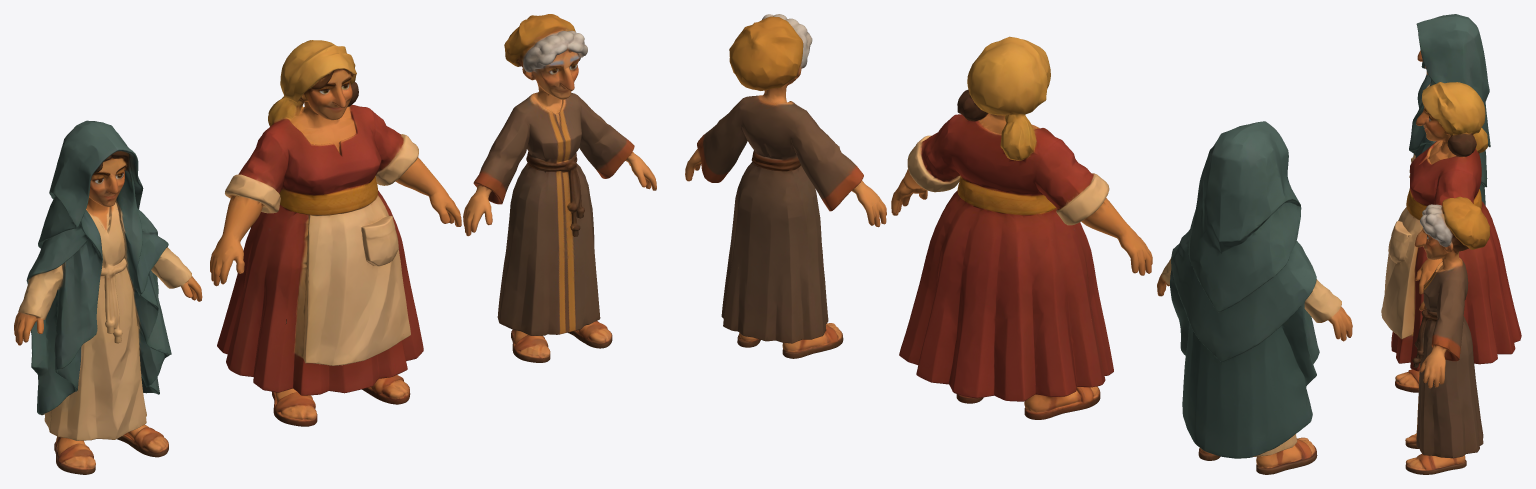
The model's file is mulheres_tripo.glb.
3 views of the same model, side by side, from view 1: azimuth 30°, elevation 25°; view 2: azimuth 150°, elevation 25°; view 3: azimuth 270°, elevation 25° (orthographic). The views are drawn at different scales.
Parts seen in each view (by area): view 1: tripo_node_31c0337b-fda4-4e2c-b716-0989f30536ca; view 2: tripo_node_31c0337b-fda4-4e2c-b716-0989f30536ca; view 3: tripo_node_31c0337b-fda4-4e2c-b716-0989f30536ca.
Boxes of the visible parts, <box> form: tripo_node_31c0337b-fda4-4e2c-b716-0989f30536ca: <box>14,14,656,474</box>; tripo_node_31c0337b-fda4-4e2c-b716-0989f30536ca: <box>685,14,1352,474</box>; tripo_node_31c0337b-fda4-4e2c-b716-0989f30536ca: <box>1381,14,1521,474</box>.
Size of the model in its own units: 1 by 0.52 by 0.2329.
Materials: 1 (1 with a texture image).
